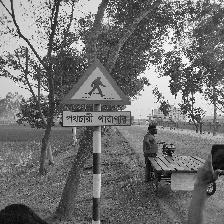Pedestrian-crossing: (59, 58, 132, 127)
